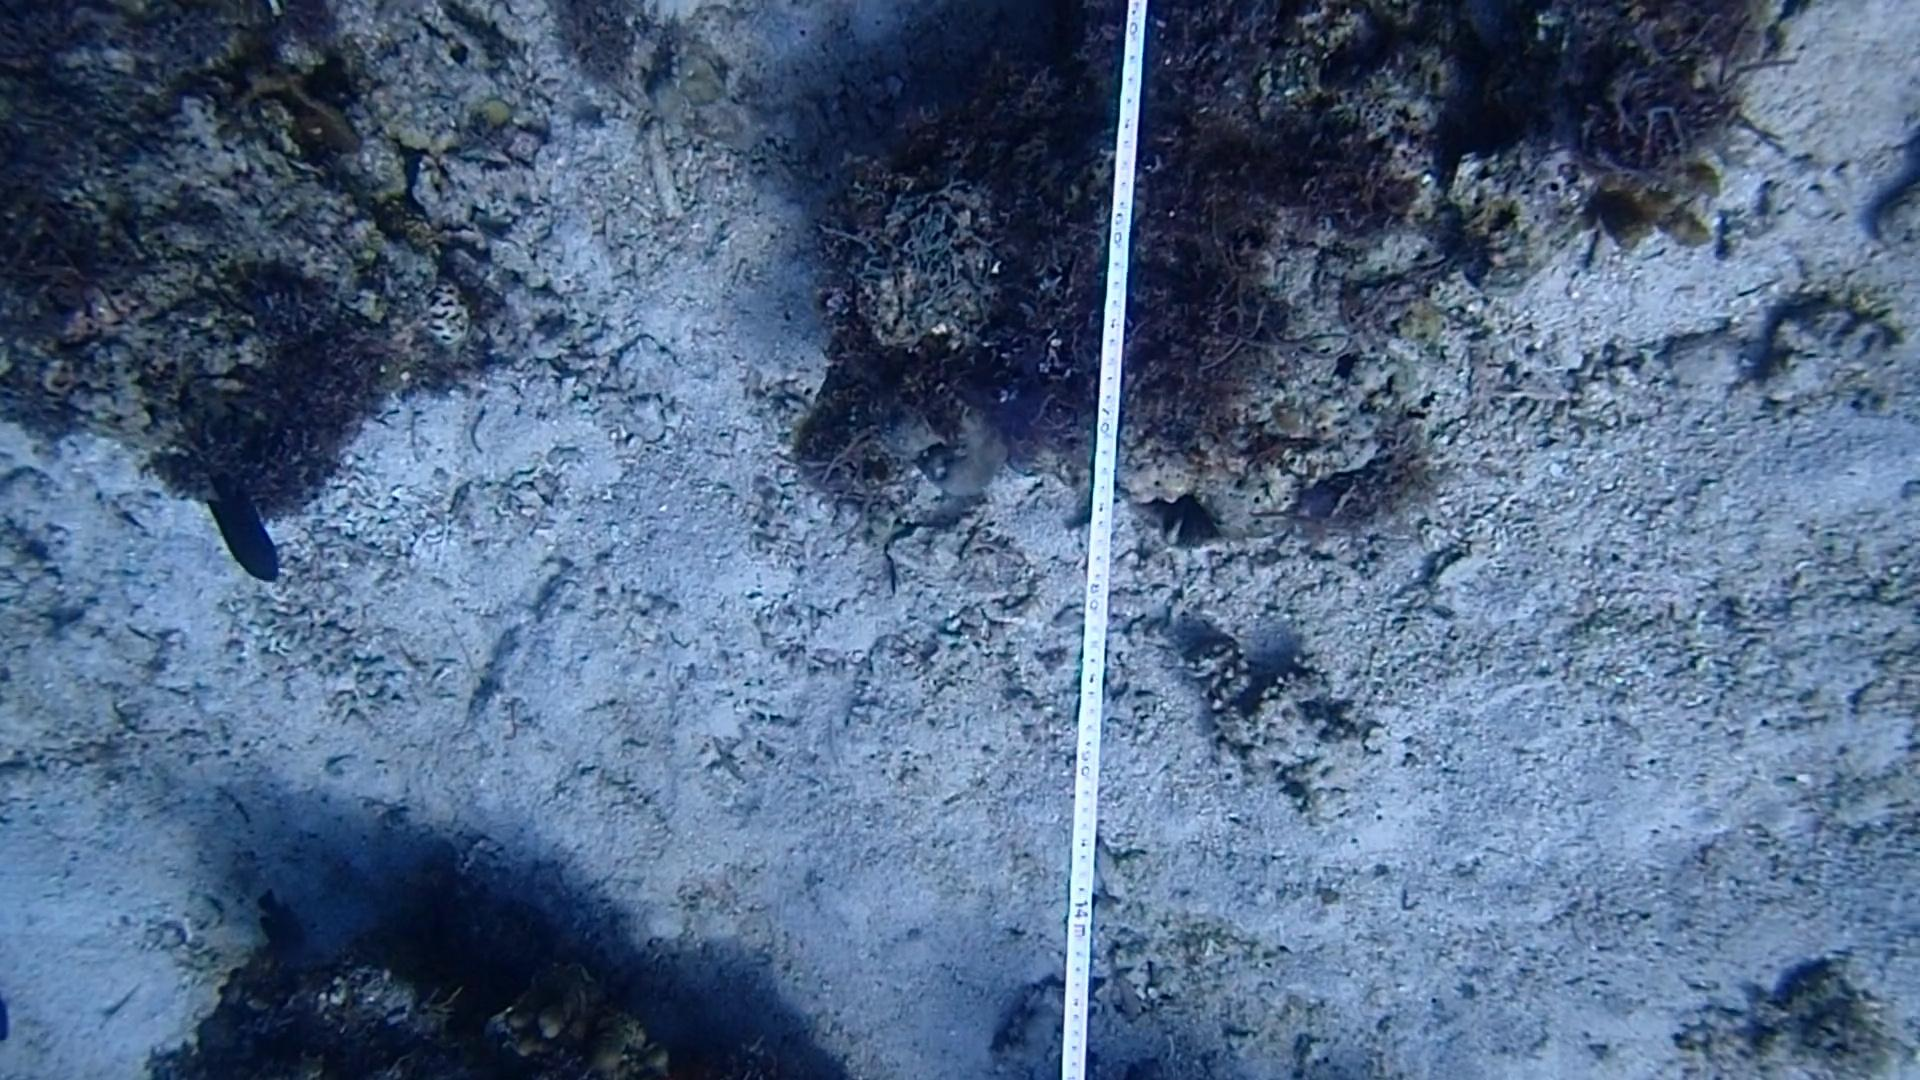Dark Fish: (194, 468, 294, 597), (244, 882, 318, 969)
